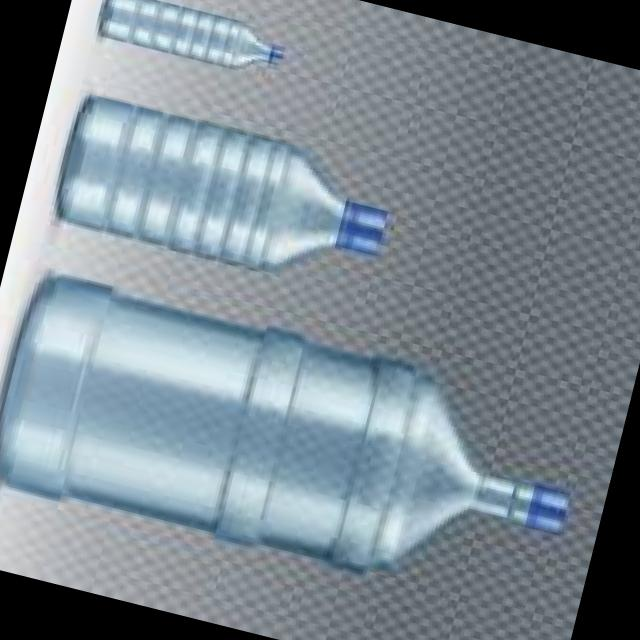bottle: (0, 276, 567, 572), (57, 96, 389, 271), (98, 0, 283, 68)
